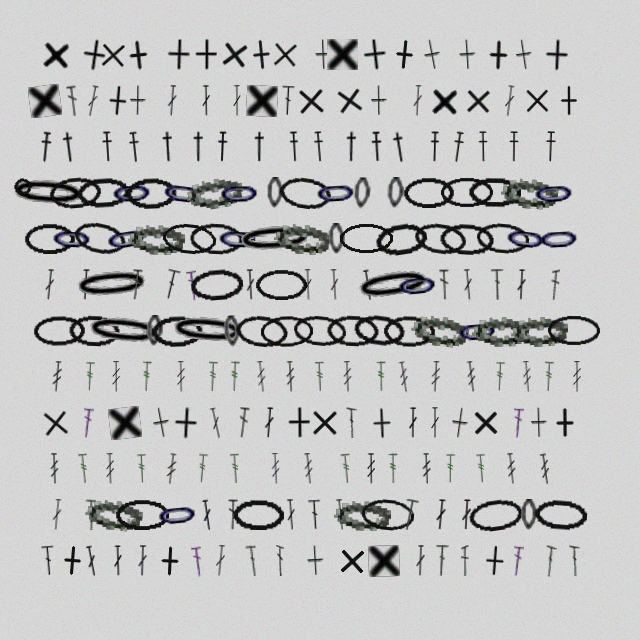chain: (353, 264, 434, 306), (84, 312, 164, 350), (72, 266, 152, 303), (168, 312, 248, 349), (8, 175, 88, 211), (235, 221, 315, 257), (184, 173, 245, 213), (71, 218, 129, 259), (410, 312, 470, 349), (84, 496, 144, 533), (277, 174, 334, 212), (412, 220, 469, 258), (467, 496, 524, 534), (373, 220, 429, 258), (273, 221, 332, 256), (352, 312, 407, 349), (161, 221, 217, 257), (292, 313, 348, 349), (500, 176, 559, 210), (510, 314, 569, 348), (234, 313, 289, 349), (360, 497, 416, 532), (48, 175, 103, 210), (475, 221, 530, 256), (189, 267, 244, 302), (439, 222, 494, 256), (533, 498, 588, 532), (76, 176, 130, 210), (128, 223, 185, 255), (472, 315, 529, 347), (334, 499, 391, 531), (189, 222, 243, 255), (326, 314, 380, 347), (68, 314, 121, 347), (103, 220, 150, 257), (125, 177, 178, 209), (33, 315, 86, 347), (151, 315, 204, 347), (260, 315, 313, 347), (383, 315, 436, 347), (440, 177, 494, 208), (339, 223, 393, 254), (547, 315, 601, 346), (115, 499, 169, 530), (160, 175, 206, 211), (468, 177, 521, 208), (403, 177, 455, 208), (24, 223, 76, 254), (255, 269, 307, 300), (232, 499, 284, 530), (503, 221, 549, 256), (155, 497, 200, 532), (395, 268, 440, 302), (455, 314, 500, 348), (110, 176, 154, 209), (314, 176, 358, 209), (50, 222, 94, 255), (216, 222, 260, 255), (537, 222, 581, 255), (532, 177, 576, 209), (218, 177, 261, 209), (353, 177, 371, 209), (223, 315, 241, 347), (387, 177, 404, 208), (328, 223, 345, 254), (146, 315, 163, 346), (267, 177, 283, 208), (521, 499, 537, 530)
double: (162, 268, 181, 301), (401, 499, 419, 531), (208, 407, 224, 439), (85, 85, 100, 117), (84, 545, 99, 577), (41, 545, 56, 576), (66, 85, 80, 117), (186, 269, 200, 301), (361, 269, 375, 301), (200, 499, 214, 531), (543, 545, 557, 577), (281, 85, 295, 116), (308, 499, 322, 530), (245, 545, 259, 576), (435, 545, 449, 576), (503, 85, 516, 117), (191, 545, 204, 577), (43, 269, 56, 300), (130, 269, 143, 300), (491, 269, 504, 300), (81, 407, 94, 438), (237, 407, 250, 438), (334, 499, 347, 530), (214, 545, 227, 576), (511, 545, 524, 576), (166, 85, 178, 116), (462, 269, 474, 300), (263, 407, 275, 438), (512, 407, 524, 438), (51, 499, 63, 530), (285, 499, 297, 530), (435, 499, 447, 530), (412, 85, 423, 116), (80, 269, 91, 300), (245, 269, 256, 300), (329, 269, 340, 300), (439, 269, 450, 300), (516, 269, 527, 300), (346, 407, 357, 438), (85, 499, 96, 530), (461, 499, 472, 530), (137, 545, 148, 576), (415, 545, 426, 576), (569, 545, 580, 576), (201, 85, 211, 116), (232, 85, 242, 116), (303, 269, 313, 300), (550, 269, 560, 300), (408, 407, 418, 438), (430, 407, 440, 438), (228, 499, 238, 530), (113, 545, 123, 576), (276, 545, 284, 576), (461, 545, 469, 576)
half_double: (389, 131, 410, 163), (59, 131, 79, 163), (189, 131, 208, 162), (250, 131, 269, 162), (342, 131, 361, 162), (159, 131, 177, 162), (450, 131, 466, 163), (38, 131, 53, 163), (127, 131, 142, 163), (312, 131, 326, 162), (101, 131, 114, 162), (216, 131, 229, 162), (370, 131, 383, 162), (544, 131, 557, 162), (288, 131, 300, 162), (477, 131, 489, 162), (508, 131, 520, 162), (429, 131, 440, 162)
noise: (11, 175, 34, 198)
single: (217, 37, 252, 72), (332, 83, 367, 118), (28, 84, 62, 118), (108, 406, 142, 440), (122, 38, 155, 72), (39, 406, 72, 440), (245, 38, 278, 71), (388, 38, 421, 71), (101, 84, 134, 117), (56, 544, 89, 577), (478, 544, 511, 577), (269, 38, 301, 71), (97, 39, 129, 71), (246, 85, 278, 117), (295, 85, 327, 117), (462, 85, 494, 117), (366, 407, 398, 439), (154, 545, 186, 577), (336, 545, 368, 577), (368, 545, 400, 577), (41, 38, 72, 71), (483, 39, 514, 71), (327, 39, 358, 70), (309, 407, 340, 438), (470, 407, 501, 438), (549, 407, 580, 438), (430, 85, 460, 117), (80, 38, 108, 72), (522, 85, 552, 116), (554, 85, 584, 116), (361, 38, 388, 71), (544, 39, 569, 71), (173, 407, 198, 439), (166, 39, 191, 70), (194, 39, 218, 70), (287, 407, 311, 438), (422, 38, 443, 71), (151, 406, 172, 439), (514, 38, 534, 71), (450, 407, 470, 439), (315, 39, 332, 70), (459, 39, 476, 70), (307, 545, 324, 576), (130, 85, 146, 116), (371, 85, 387, 116), (531, 407, 547, 438)
treble: (397, 361, 411, 393), (538, 453, 552, 485), (77, 453, 91, 484), (165, 453, 178, 485), (255, 361, 268, 392), (465, 361, 478, 392), (196, 453, 209, 484), (229, 453, 242, 484), (302, 453, 315, 484), (340, 453, 353, 484), (475, 453, 488, 484), (505, 453, 518, 484), (51, 361, 63, 392), (84, 361, 96, 392), (207, 361, 219, 392), (314, 361, 326, 392), (494, 361, 506, 392), (521, 361, 533, 392), (543, 361, 555, 392), (136, 453, 148, 484), (141, 361, 152, 392), (229, 361, 240, 392), (285, 361, 296, 392), (342, 361, 353, 392), (430, 361, 441, 392), (49, 453, 60, 484), (270, 453, 281, 484), (421, 453, 432, 484), (445, 453, 456, 484), (111, 361, 121, 392), (176, 361, 186, 392), (376, 361, 386, 392), (572, 361, 582, 392), (105, 453, 115, 484), (366, 453, 376, 484), (388, 453, 398, 484)
